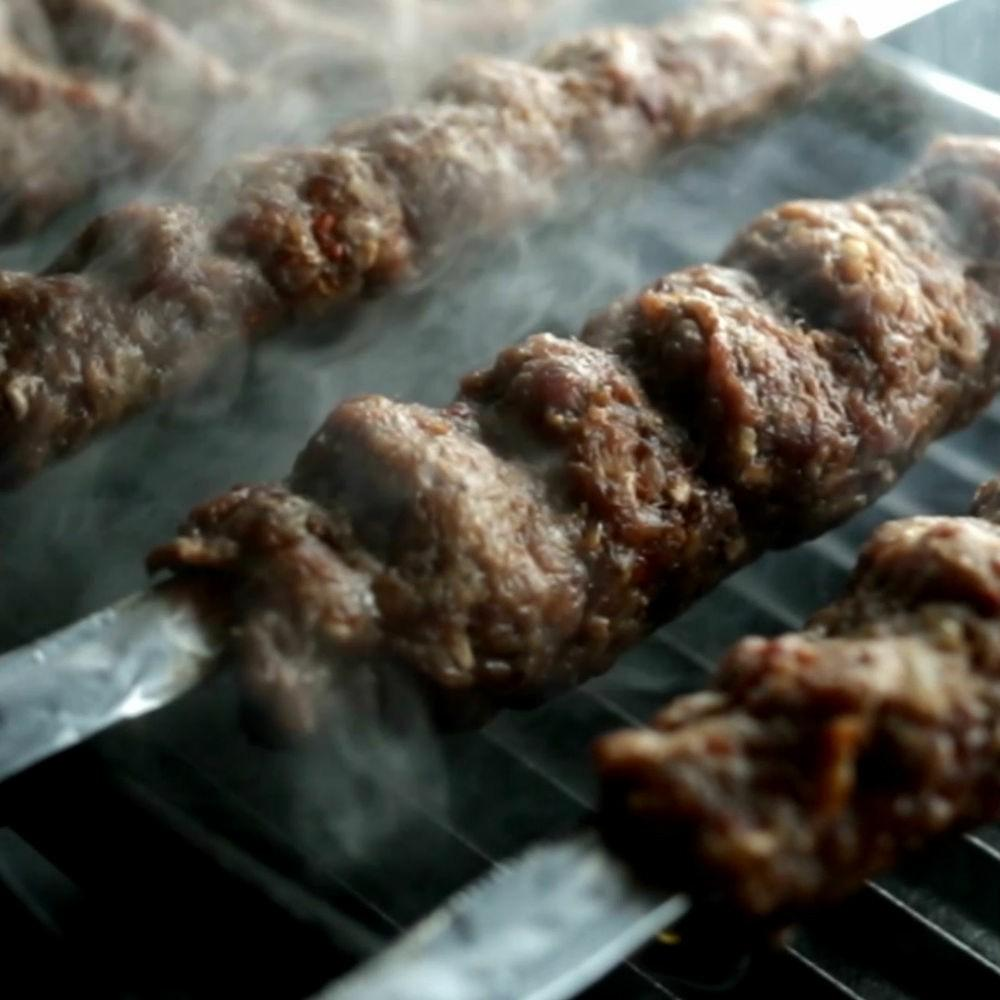Kebab: (147, 123, 1000, 731), (0, 0, 865, 491), (586, 475, 1000, 945), (0, 0, 551, 249)
